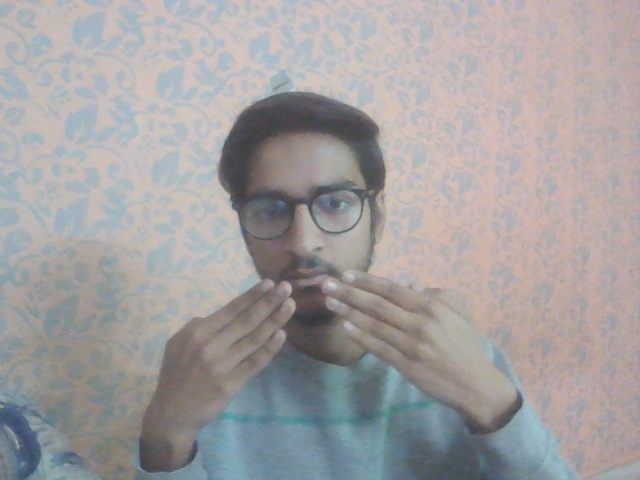ThankYou: (145, 266, 507, 444)
